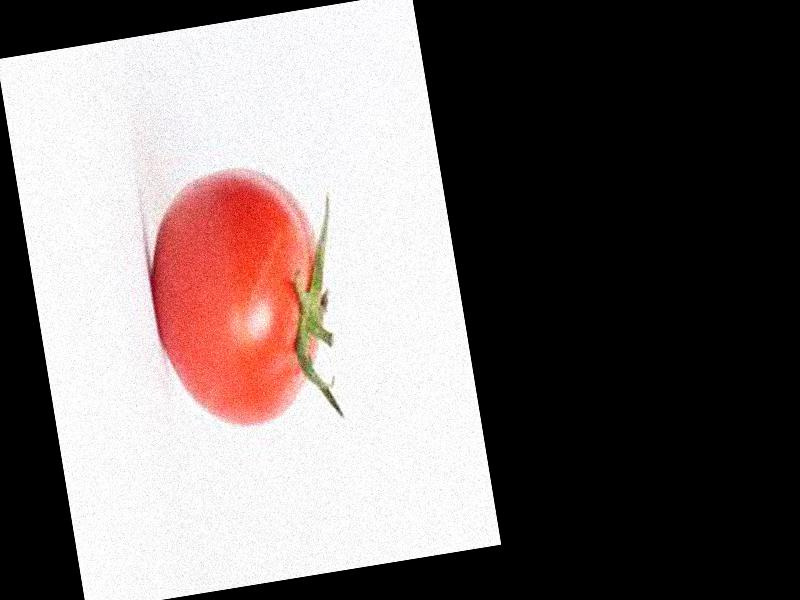Tomato: (133, 154, 341, 437)
